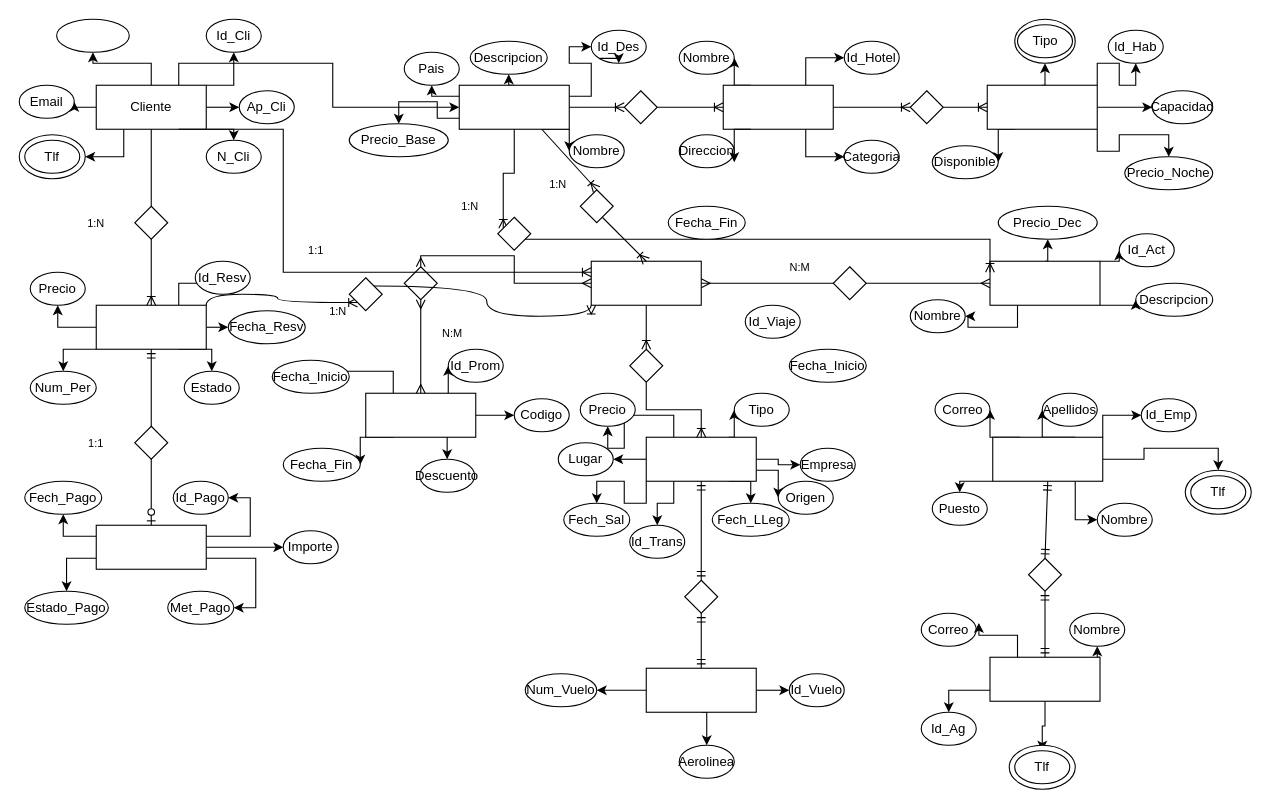
The diagram is 1271 pixels wide and 809 high, and some of its shapes have lost their labels. The centre of each missing label's shape, as x and y in pixels:
"Actividad" goes at point (1044, 282).
"Agente" goes at point (1044, 678).
"Destino" goes at point (513, 106).
"Empleado" goes at point (1047, 458).
"Fecha_reg" goes at point (92, 35).
"Habitacion" goes at point (1041, 106).
"Hotel" goes at point (777, 106).
"Pago" goes at point (150, 546).
"Promociones" goes at point (420, 414).
"Reserva" goes at point (150, 326).
"Transporte" goes at point (700, 458).
"Viaje" goes at point (645, 282).
"Vuelo" goes at point (700, 689).
